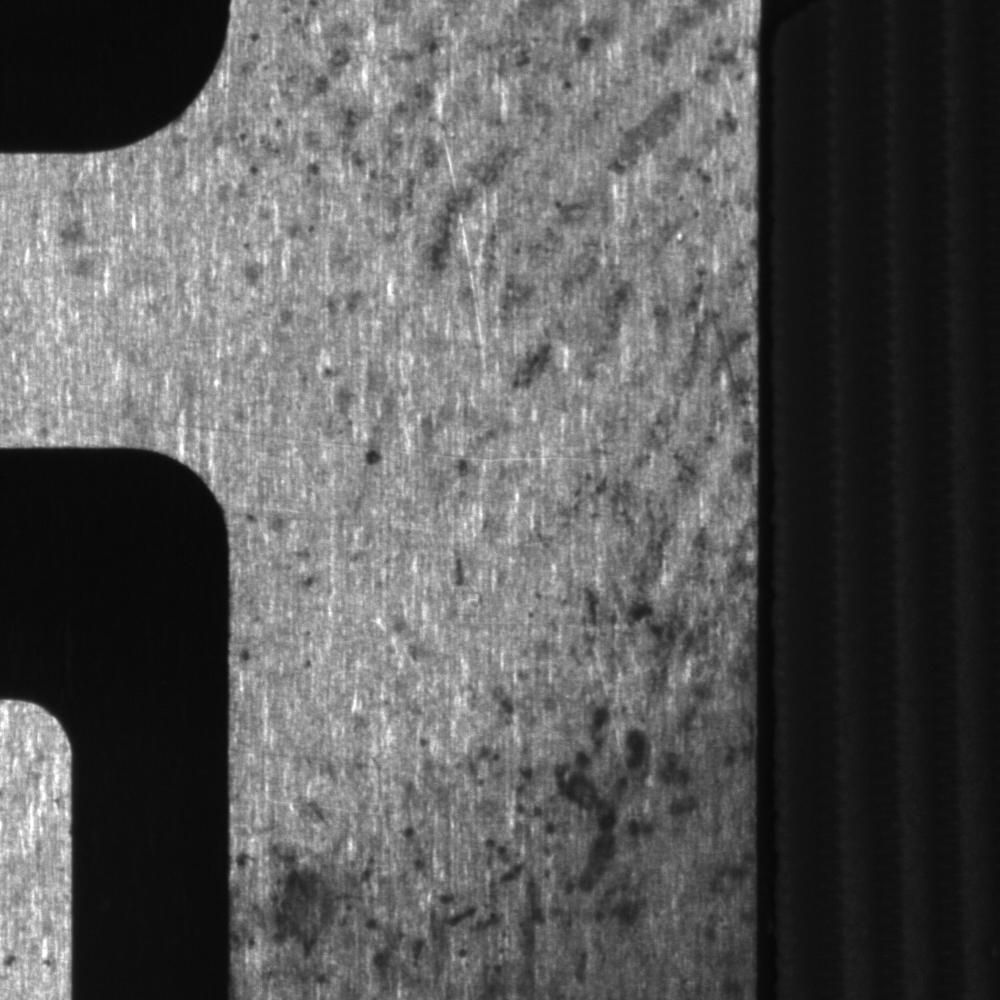Discolor: (234, 3, 756, 202), (494, 392, 757, 765), (435, 772, 756, 997), (419, 205, 756, 384), (235, 824, 426, 993)
Etching: (354, 428, 482, 498), (238, 499, 327, 598), (232, 620, 317, 675)
